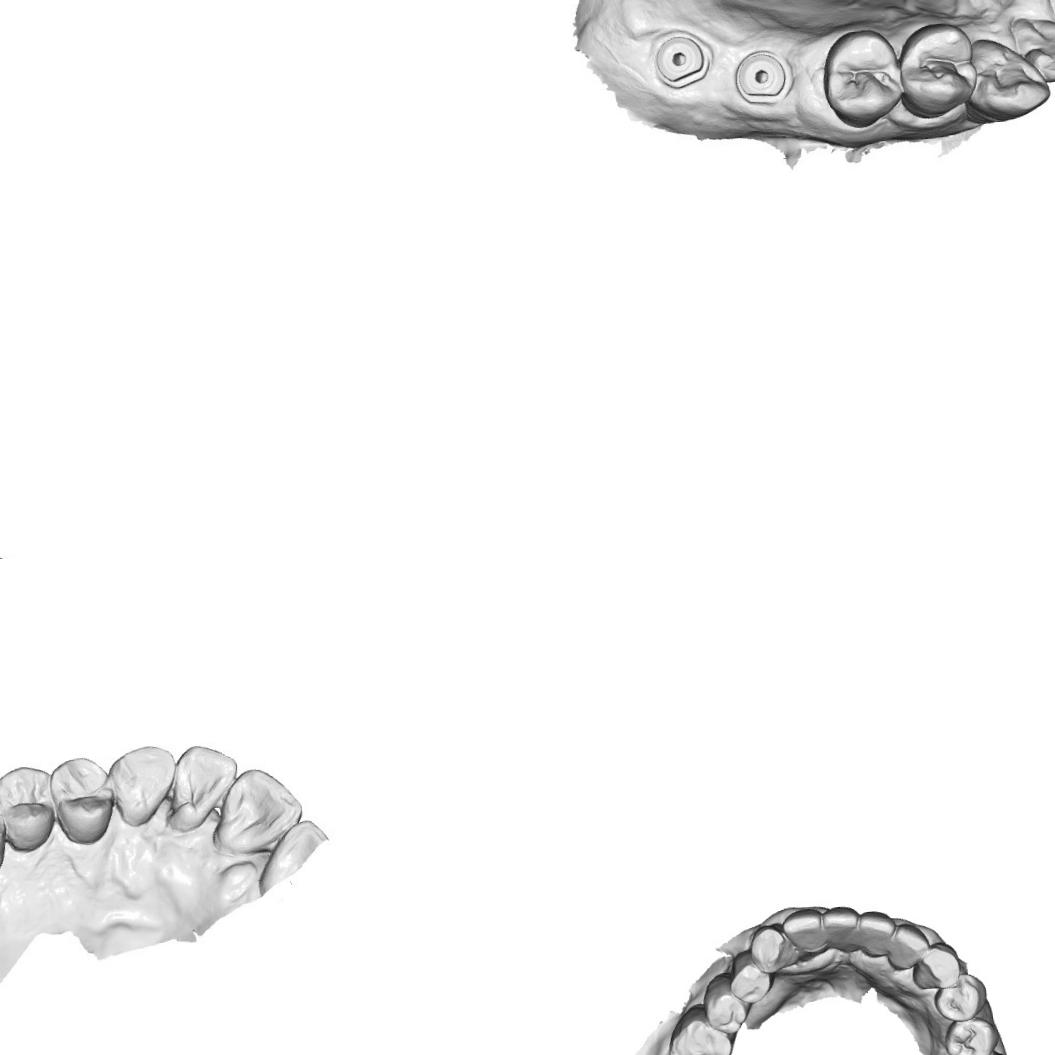canine: (962, 29, 1052, 125), (109, 743, 177, 829), (909, 938, 963, 992), (746, 922, 798, 975)
implant: (641, 20, 719, 102), (728, 44, 795, 115)
incisor: (216, 766, 300, 854), (164, 739, 236, 832), (1007, 6, 1055, 90), (882, 920, 932, 974), (780, 906, 828, 957), (855, 906, 898, 959), (821, 904, 862, 954)
molar: (664, 999, 738, 1055)
premolar: (816, 19, 908, 136), (895, 18, 978, 122), (48, 752, 119, 844), (0, 762, 57, 843), (700, 968, 750, 1032), (930, 970, 990, 1023), (726, 945, 774, 1005), (940, 1014, 1001, 1055)
